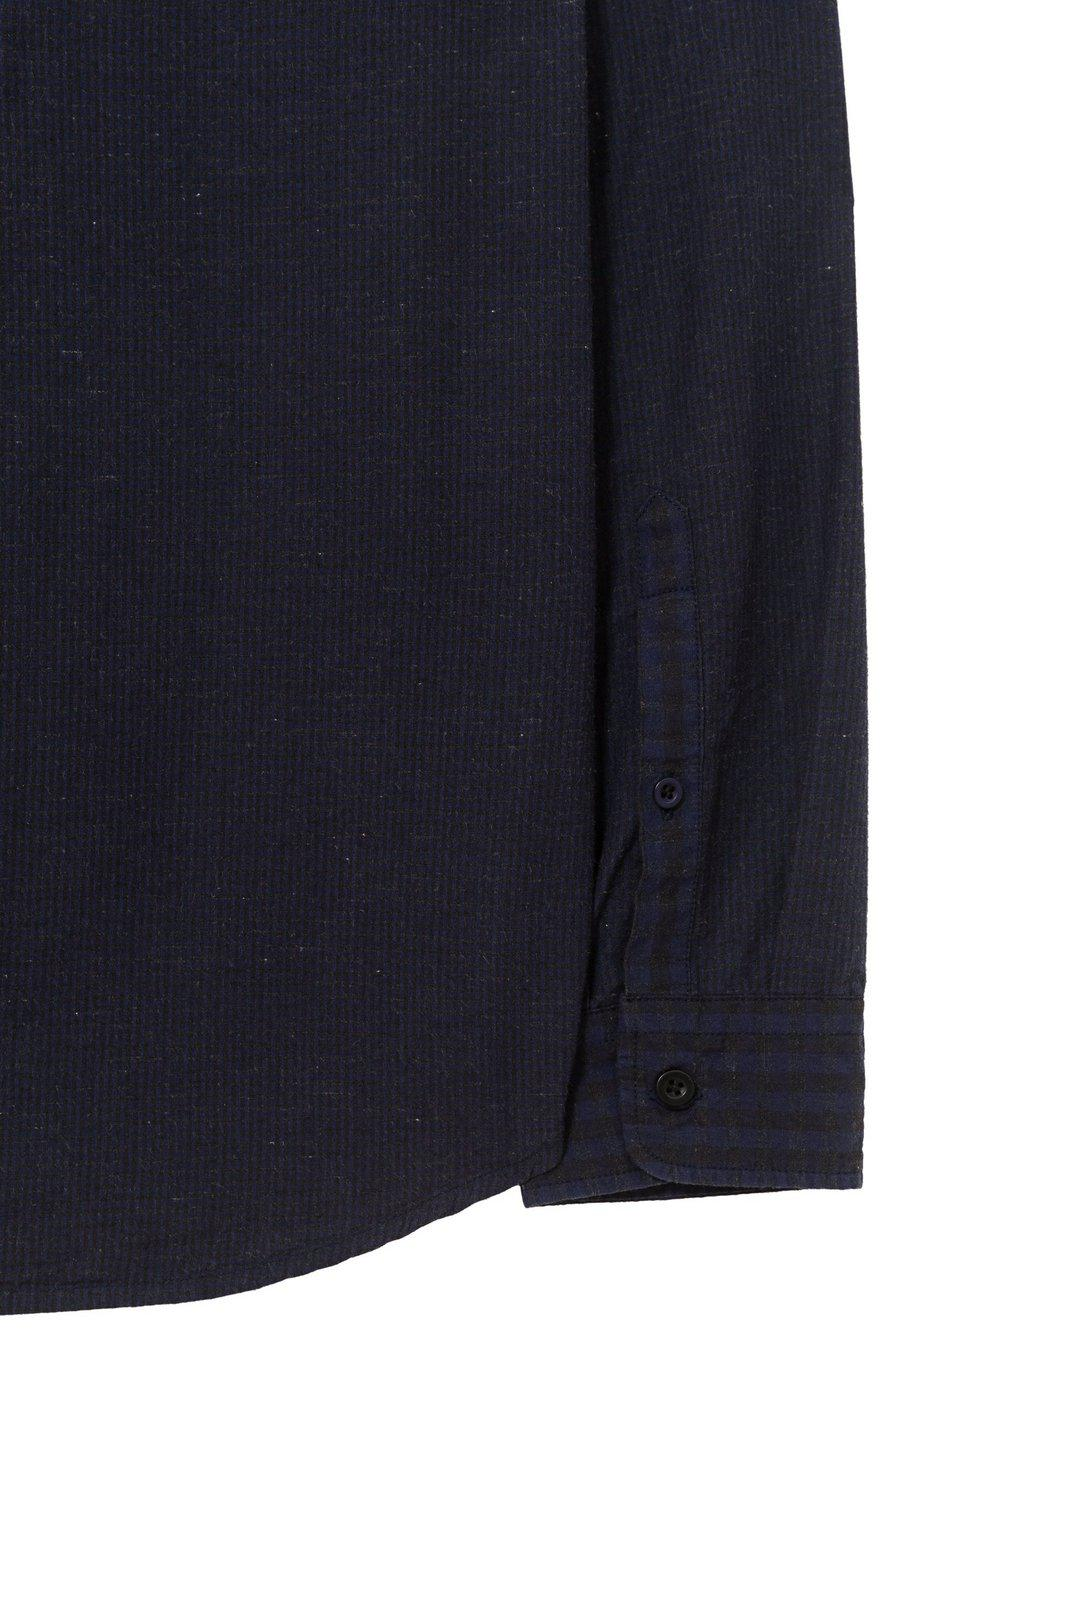teeshirt: (1, 33, 906, 1301)
